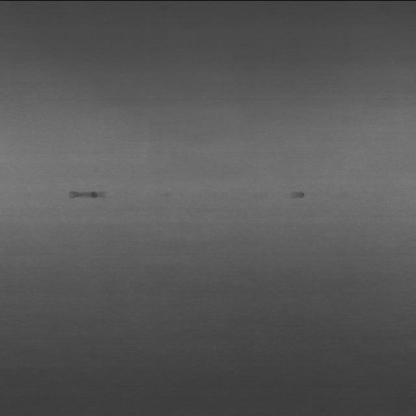oil_spot: (61, 181, 116, 204), (278, 185, 323, 202)
